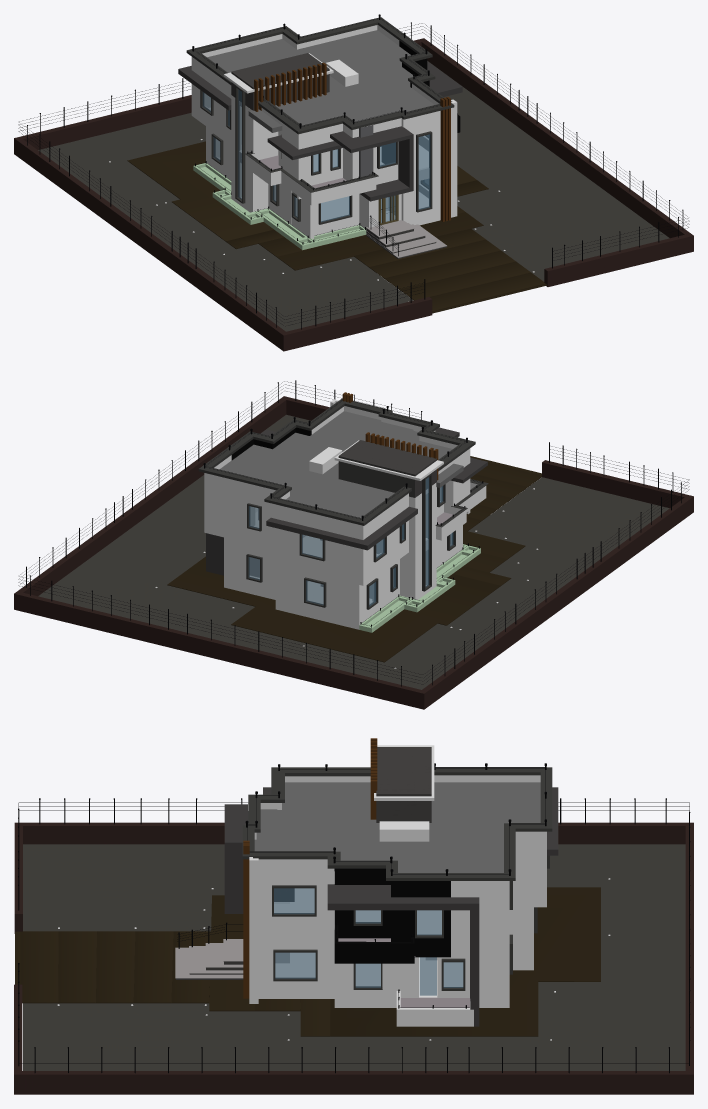
File: exterior-transformed.glb
3 views of the same model, one above another, from view 1: azimuth 30°, elevation 25°; view 2: azimuth 150°, elevation 25°; view 3: azimuth 270°, elevation 25° (orthographic). The views are drawn at different scales.
Parts seen in each view (by area): view 1: Line014_Material #248_0, Line009_Material #24_0, Box008_Material #6_0; view 2: Line014_Material #248_0, Line009_Material #24_0, Box008_Material #6_0; view 3: Line014_Material #248_0, Line009_Material #24_0, Line010_Material #24_0, Box008_Material #6_0.
Boxes of the visible parts, left/top/right/bottom form: Line014_Material #248_0: left=14, top=14, right=693, bottom=351; Line009_Material #24_0: left=109, top=25, right=534, bottom=301; Box008_Material #6_0: left=203, top=89, right=430, bottom=223; Line014_Material #248_0: left=14, top=380, right=693, bottom=709; Line009_Material #24_0: left=155, top=399, right=538, bottom=668; Box008_Material #6_0: left=248, top=477, right=453, bottom=606; Line014_Material #248_0: left=14, top=738, right=693, bottom=1094; Line009_Material #24_0: left=57, top=745, right=610, bottom=1040; Line010_Material #24_0: left=334, top=868, right=450, bottom=963; Box008_Material #6_0: left=274, top=888, right=463, bottom=995.
Bounding box in the file's own units: 26.92 × 8.7 × 30.69.
Materials: 3 (3 with a texture image).
